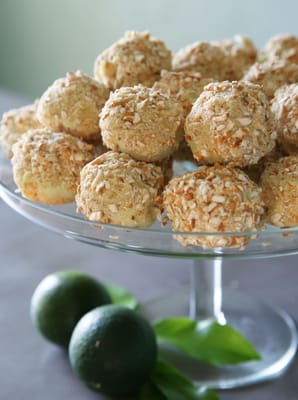salad: (184, 80, 279, 171), (157, 162, 266, 236), (99, 83, 187, 163), (75, 151, 165, 229), (10, 127, 96, 205), (35, 70, 110, 143), (94, 30, 173, 91), (172, 33, 258, 82)
